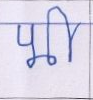i_matra: (51, 6, 79, 63)
